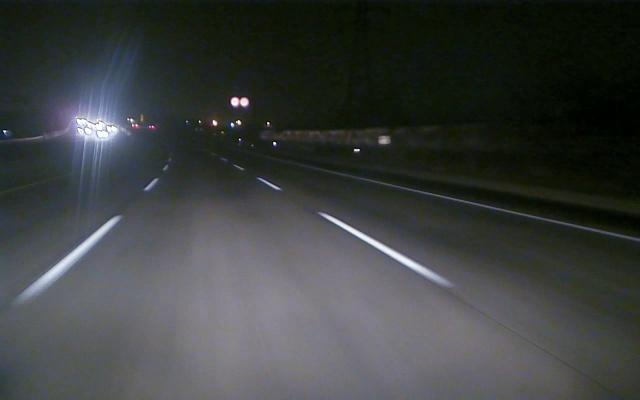lane: (257, 178, 455, 286), (10, 174, 161, 308), (342, 174, 638, 242)
